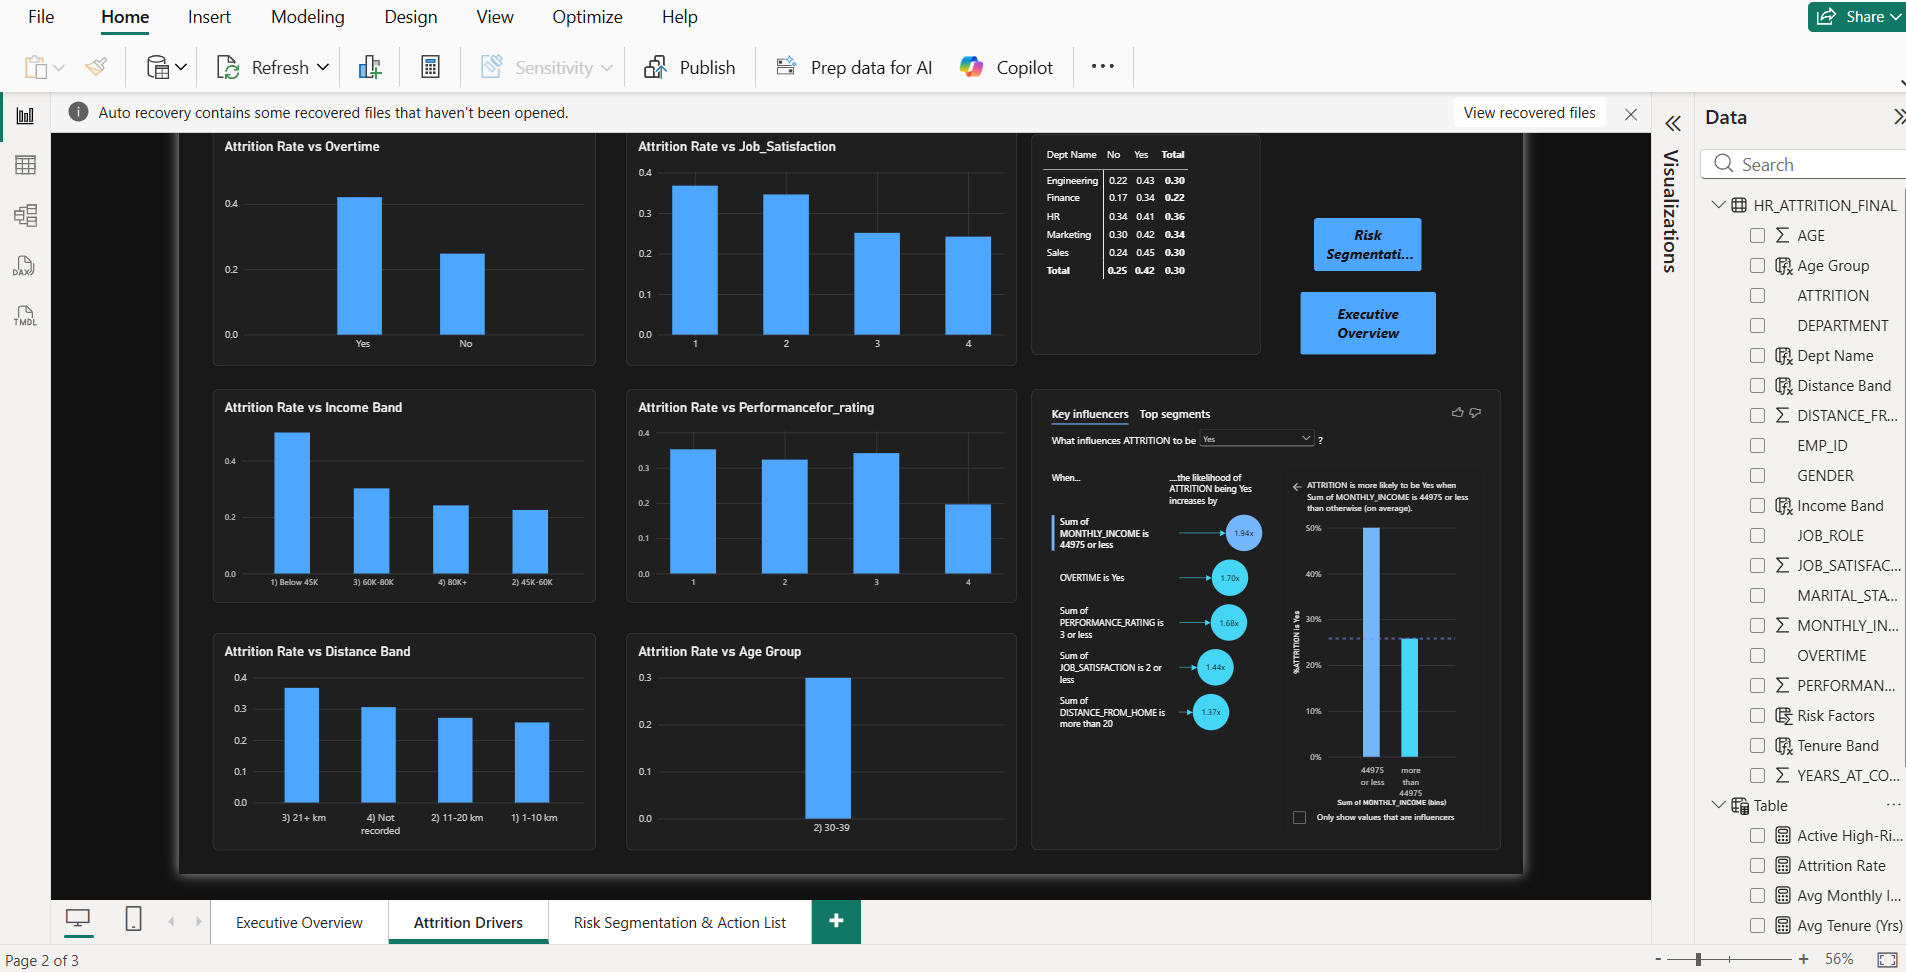

Layout of this report page (visuals, bound fields, positions):
{"tool":"powerbi","page":{"name":"Attrition Drivers","canvas":[1920,1080],"ordinal":1},"visuals":[{"type":"clusteredColumnChart","title":"Attrition Rate vs Overtime","fields":{"Category":["HR_ATTRITION_FINAL.OVERTIME"],"Y":["Table.Attrition Rate"]},"box":[47.5,15,547.5,340],"z":0},{"type":"clusteredColumnChart","title":"Attrition Rate vs Income Band","fields":{"Category":["HR_ATTRITION_FINAL.Income Band"],"Y":["Table.Attrition Rate"]},"box":[47.5,387.5,547.5,305],"z":1000},{"type":"clusteredColumnChart","title":"Attrition Rate vs Distance Band","fields":{"Category":["HR_ATTRITION_FINAL.Distance Band"],"Y":["Table.Attrition Rate"]},"box":[47.5,735,547.5,310],"z":2000},{"type":"clusteredColumnChart","title":"Attrition Rate vs Job_Satisfaction","fields":{"Category":["HR_ATTRITION_FINAL.JOB_SATISFACTION"],"Y":["Table.Attrition Rate"]},"box":[640,15,557.5,340],"z":3000},{"type":"clusteredColumnChart","title":"Attrition Rate vs Performancefor_rating","fields":{"Category":["HR_ATTRITION_FINAL.PERFORMANCE_RATING"],"Y":["Table.Attrition Rate"]},"box":[640,387.5,557.5,305],"z":4000},{"type":"clusteredColumnChart","title":"Attrition Rate vs Age Group","fields":{"Category":["HR_ATTRITION_FINAL.Age Group"],"Y":["Table.Attrition Rate"]},"box":[640,735,557.5,310],"z":5000},{"type":"pivotTable","fields":{"Columns":["HR_ATTRITION_FINAL.OVERTIME"],"Rows":["HR_ATTRITION_FINAL.Dept Name"],"Values":["Table.Attrition Rate"]},"box":[1217.5,22.5,327.5,315],"z":6000},{"type":"keyDriversVisual","fields":{"ExplainBy":["HR_ATTRITION_FINAL.OVERTIME","Sum(HR_ATTRITION_FINAL.MONTHLY_INCOME)","Sum(HR_ATTRITION_FINAL.DISTANCE_FROM_HOME)","Sum(HR_ATTRITION_FINAL.YEARS_AT_COMPANY)","Sum(HR_ATTRITION_FINAL.JOB_SATISFACTION)","Sum(HR_ATTRITION_FINAL.PERFORMANCE_RATING)","HR_ATTRITION_FINAL.Dept Name","Sum(HR_ATTRITION_FINAL.AGE)"],"Target":["HR_ATTRITION_FINAL.ATTRITION"]},"box":[1218,388,670,658],"z":7000},{"type":"actionButton","box":[1622,142,154,76],"z":12000},{"type":"actionButton","box":[1602,248,194,90],"z":13000}]}

Visuals, with their boxes on the page's 1920x1080 design canvas (x1, y1, x2, y2). These are canvas units, not pixel positions in the 1906x972 screenshot, which may show the page scaled, cropped or inside an application window:
"Attrition Rate vs Overtime" clusteredColumnChart: [48, 15, 595, 355]
"Attrition Rate vs Income Band" clusteredColumnChart: [48, 388, 595, 692]
"Attrition Rate vs Distance Band" clusteredColumnChart: [48, 735, 595, 1045]
"Attrition Rate vs Job_Satisfaction" clusteredColumnChart: [640, 15, 1198, 355]
"Attrition Rate vs Performancefor_rating" clusteredColumnChart: [640, 388, 1198, 692]
"Attrition Rate vs Age Group" clusteredColumnChart: [640, 735, 1198, 1045]
pivotTable - HR_ATTRITION_FINAL.OVERTIME x HR_ATTRITION_FINAL.Dept Name: [1218, 22, 1545, 338]
keyDriversVisual - HR_ATTRITION_FINAL.OVERTIME x Sum(HR_ATTRITION_FINAL.MONTHLY_INCOME): [1218, 388, 1888, 1046]
actionButton: [1622, 142, 1776, 218]
actionButton: [1602, 248, 1796, 338]
